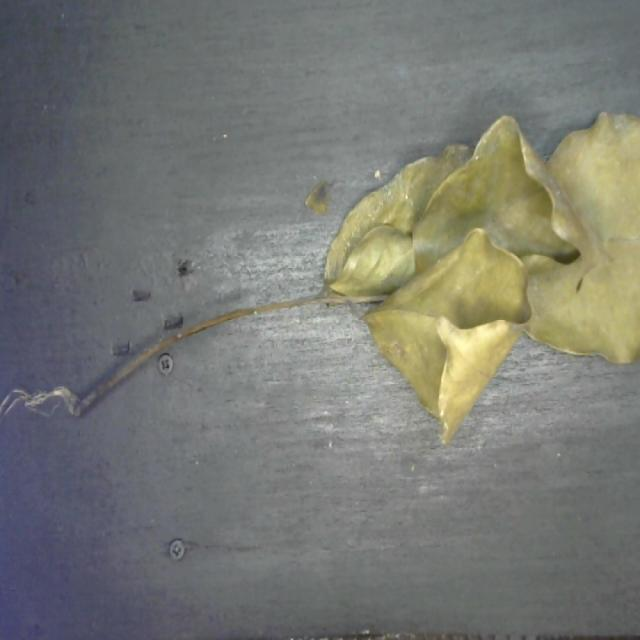biodegradable: (311, 101, 640, 453)
